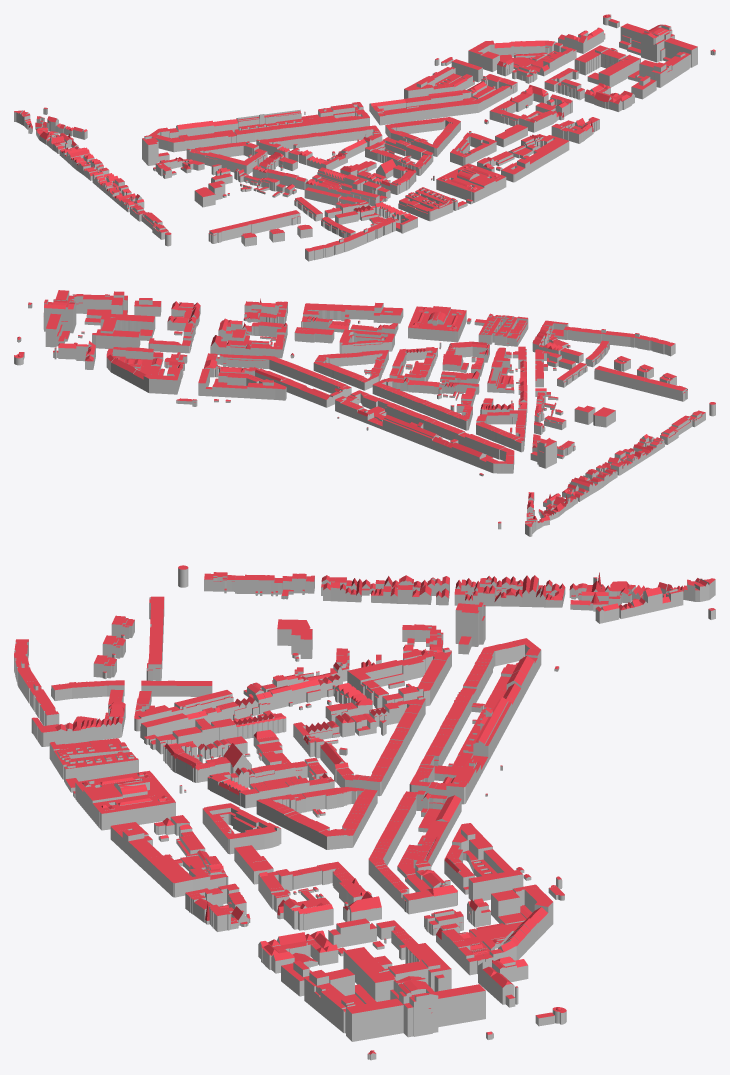
File: Delfshaven.glb
3 views of the same model, one above another, from view 1: azimuth 30°, elevation 25°; view 2: azimuth 150°, elevation 25°; view 3: azimuth 270°, elevation 25° (orthographic). The views are drawn at different scales.
Visible parts, largest first — view 1: 0: [LoD2] {B68741B6-AB73-4AF0-A1D0-29A60CF26190}, 0: [LoD2] {0C3309A9-671F-4F25-8321-5EDF03882E91}, 0: [LoD2] {A1DB3CD2-B53A-46A1-AE34-6FB072C39C71}, 0: [LoD2] {10DE70DB-529F-42A3-AA5C-673FE1BA1C84}, 0: [LoD2] {A189DDB5-7B0F-48FF-85E6-632624708C1F}, 0: [LoD2] {DFB26A0F-17DA-4E9F-A606-220BE304D5CD}, 0: [LoD2] {D2A1CD58-9835-4C0C-9E87-39B11F9C9A32}, 0: [LoD2] {5A60303F-AA2C-4D9A-8A45-98BAABF7678F}, 0: [LoD2] {A3A3E901-150C-43F9-9EE2-5058469F9357}, 0: [LoD2] {A83D8214-88E1-4558-9A18-9A5C690E121E}, 0: [LoD2] {529F3DA8-0FB1-4DEE-A9D6-4AF53F3101D8}, 0: [LoD2] {ADC7B83B-3F41-4A87-88B4-477F30EE1F29} (+7 smaller); view 2: 0: [LoD2] {A1DB3CD2-B53A-46A1-AE34-6FB072C39C71}, 0: [LoD2] {0C3309A9-671F-4F25-8321-5EDF03882E91}, 0: [LoD2] {B68741B6-AB73-4AF0-A1D0-29A60CF26190}, 0: [LoD2] {10DE70DB-529F-42A3-AA5C-673FE1BA1C84}, 0: [LoD2] {A189DDB5-7B0F-48FF-85E6-632624708C1F}, 0: [LoD2] {D2A1CD58-9835-4C0C-9E87-39B11F9C9A32}, 0: [LoD2] {5A60303F-AA2C-4D9A-8A45-98BAABF7678F}, 0: [LoD2] {A3A3E901-150C-43F9-9EE2-5058469F9357}, 0: [LoD2] {DFB26A0F-17DA-4E9F-A606-220BE304D5CD}, 0: [LoD2] {A83D8214-88E1-4558-9A18-9A5C690E121E}, 0: [LoD2] {CE491C51-2E97-4464-85D1-799109999BBB}, 0: [LoD2] {0488341F-0478-4EEB-AE41-0E471EA896A6} (+9 smaller); view 3: 0: [LoD2] {B68741B6-AB73-4AF0-A1D0-29A60CF26190}, 0: [LoD2] {0C3309A9-671F-4F25-8321-5EDF03882E91}, 0: [LoD2] {A1DB3CD2-B53A-46A1-AE34-6FB072C39C71}, 0: [LoD2] {5A60303F-AA2C-4D9A-8A45-98BAABF7678F}, 0: [LoD2] {DFB26A0F-17DA-4E9F-A606-220BE304D5CD}, 0: [LoD2] {A189DDB5-7B0F-48FF-85E6-632624708C1F}, 0: [LoD2] {529F3DA8-0FB1-4DEE-A9D6-4AF53F3101D8}, 0: [LoD2] {A83D8214-88E1-4558-9A18-9A5C690E121E}, 0: [LoD2] {D2A1CD58-9835-4C0C-9E87-39B11F9C9A32}, 0: [LoD2] {FA625111-F80F-4617-9613-A60489C6E4ED}, 0: [LoD2] {ADC7B83B-3F41-4A87-88B4-477F30EE1F29}, 0: [LoD2] {10DE70DB-529F-42A3-AA5C-673FE1BA1C84} (+12 smaller).
Part boxes in pixels (bbox=[...]): 0: [LoD2] {B68741B6-AB73-4AF0-A1D0-29A60CF26190}: bbox=[619, 23, 697, 67]; 0: [LoD2] {0C3309A9-671F-4F25-8321-5EDF03882E91}: bbox=[436, 163, 506, 202]; 0: [LoD2] {A1DB3CD2-B53A-46A1-AE34-6FB072C39C71}: bbox=[574, 45, 640, 87]; 0: [LoD2] {10DE70DB-529F-42A3-AA5C-673FE1BA1C84}: bbox=[208, 210, 300, 243]; 0: [LoD2] {A189DDB5-7B0F-48FF-85E6-632624708C1F}: bbox=[637, 52, 689, 87]; 0: [LoD2] {DFB26A0F-17DA-4E9F-A606-220BE304D5CD}: bbox=[584, 83, 634, 111]; 0: [LoD2] {D2A1CD58-9835-4C0C-9E87-39B11F9C9A32}: bbox=[236, 109, 302, 130]; 0: [LoD2] {5A60303F-AA2C-4D9A-8A45-98BAABF7678F}: bbox=[405, 187, 457, 218]; 0: [LoD2] {A3A3E901-150C-43F9-9EE2-5058469F9357}: bbox=[305, 234, 360, 261]; 0: [LoD2] {A83D8214-88E1-4558-9A18-9A5C690E121E}: bbox=[558, 27, 605, 53]; 0: [LoD2] {529F3DA8-0FB1-4DEE-A9D6-4AF53F3101D8}: bbox=[533, 135, 569, 163]; 0: [LoD2] {ADC7B83B-3F41-4A87-88B4-477F30EE1F29}: bbox=[142, 135, 169, 165]; 0: [LoD2] {A1DB3CD2-B53A-46A1-AE34-6FB072C39C71}: bbox=[92, 313, 155, 348]; 0: [LoD2] {0C3309A9-671F-4F25-8321-5EDF03882E91}: bbox=[408, 306, 466, 342]; 0: [LoD2] {B68741B6-AB73-4AF0-A1D0-29A60CF26190}: bbox=[43, 290, 76, 347]; 0: [LoD2] {10DE70DB-529F-42A3-AA5C-673FE1BA1C84}: bbox=[594, 366, 687, 401]; 0: [LoD2] {A189DDB5-7B0F-48FF-85E6-632624708C1F}: bbox=[72, 291, 127, 315]; 0: [LoD2] {D2A1CD58-9835-4C0C-9E87-39B11F9C9A32}: bbox=[382, 414, 445, 448]; 0: [LoD2] {5A60303F-AA2C-4D9A-8A45-98BAABF7678F}: bbox=[478, 313, 517, 345]; 0: [LoD2] {A3A3E901-150C-43F9-9EE2-5058469F9357}: bbox=[614, 332, 675, 356]; 0: [LoD2] {DFB26A0F-17DA-4E9F-A606-220BE304D5CD}: bbox=[167, 301, 200, 331]; 0: [LoD2] {A83D8214-88E1-4558-9A18-9A5C690E121E}: bbox=[53, 341, 95, 369]; 0: [LoD2] {CE491C51-2E97-4464-85D1-799109999BBB}: bbox=[563, 326, 615, 345]; 0: [LoD2] {0488341F-0478-4EEB-AE41-0E471EA896A6}: bbox=[247, 379, 286, 400]; 0: [LoD2] {B68741B6-AB73-4AF0-A1D0-29A60CF26190}: bbox=[343, 976, 485, 1041]; 0: [LoD2] {0C3309A9-671F-4F25-8321-5EDF03882E91}: bbox=[75, 770, 175, 830]; 0: [LoD2] {A1DB3CD2-B53A-46A1-AE34-6FB072C39C71}: bbox=[343, 943, 451, 1001]; 0: [LoD2] {5A60303F-AA2C-4D9A-8A45-98BAABF7678F}: bbox=[53, 742, 138, 782]; 0: [LoD2] {DFB26A0F-17DA-4E9F-A606-220BE304D5CD}: bbox=[258, 930, 338, 973]; 0: [LoD2] {A189DDB5-7B0F-48FF-85E6-632624708C1F}: bbox=[304, 968, 364, 1032]; 0: [LoD2] {529F3DA8-0FB1-4DEE-A9D6-4AF53F3101D8}: bbox=[146, 854, 210, 897]; 0: [LoD2] {A83D8214-88E1-4558-9A18-9A5C690E121E}: bbox=[478, 956, 528, 1007]; 0: [LoD2] {D2A1CD58-9835-4C0C-9E87-39B11F9C9A32}: bbox=[458, 697, 511, 761]; 0: [LoD2] {FA625111-F80F-4617-9613-A60489C6E4ED}: bbox=[277, 897, 333, 930]; 0: [LoD2] {ADC7B83B-3F41-4A87-88B4-477F30EE1F29}: bbox=[455, 602, 485, 654]; 0: [LoD2] {10DE70DB-529F-42A3-AA5C-673FE1BA1C84}: bbox=[146, 596, 164, 680].
Bounding box in the file's own units: 1045 × 41.16 × 650.
